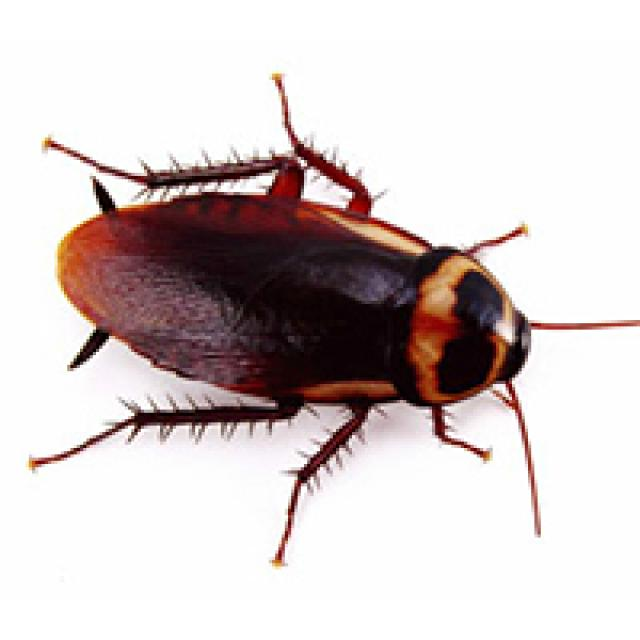Cockroach: (35, 116, 592, 518)
